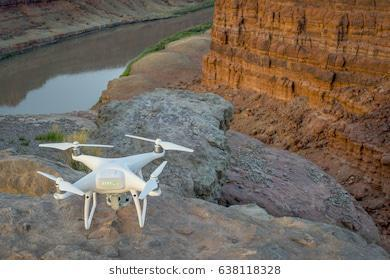drone: (25, 128, 198, 240)
